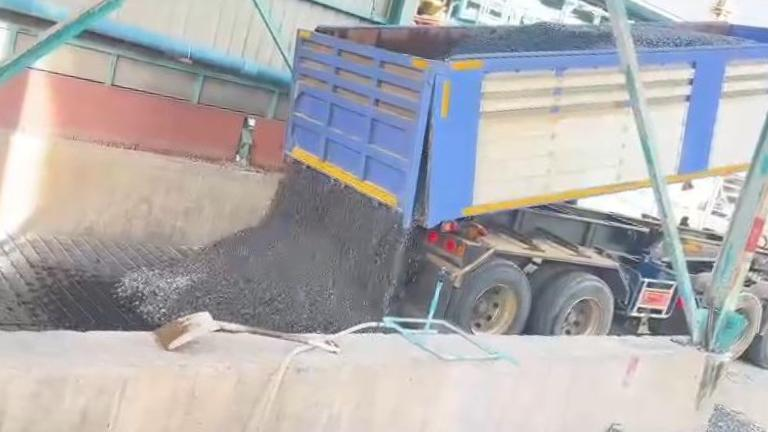gravel: (116, 165, 409, 332), (437, 22, 614, 57), (633, 25, 751, 48), (683, 406, 768, 432)
